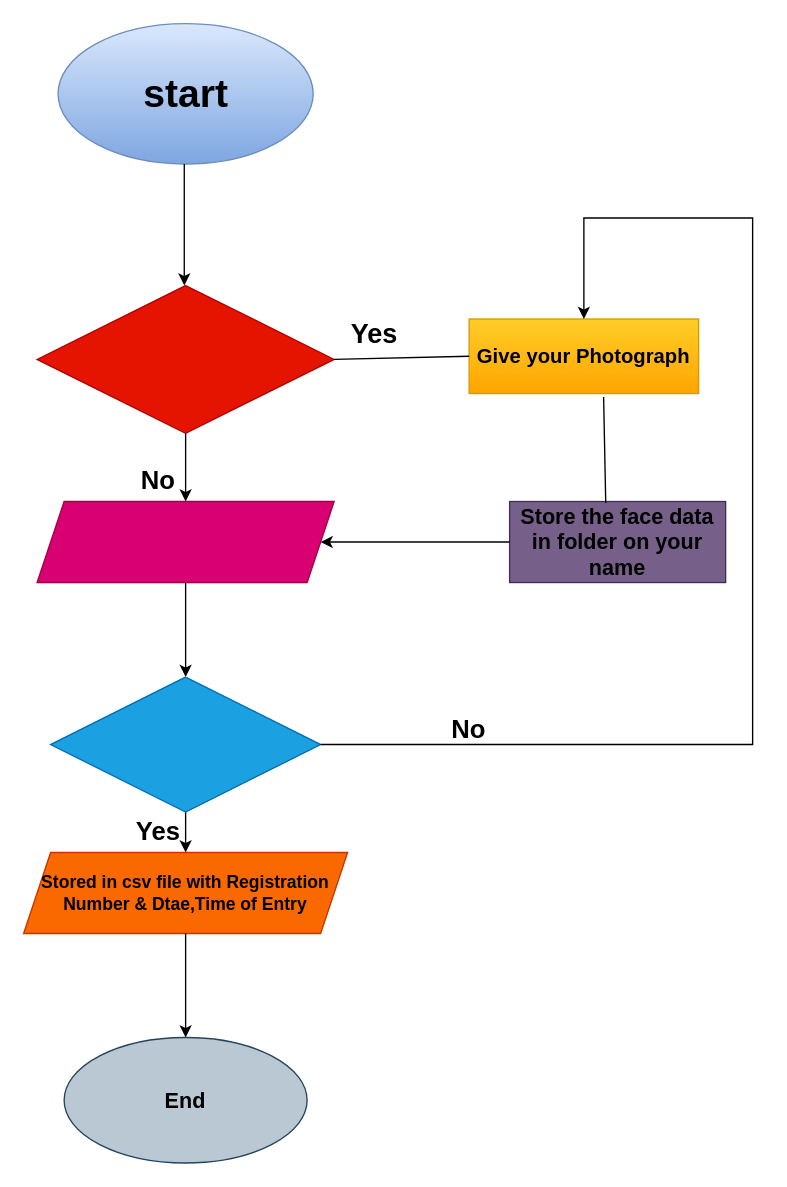
Image size: 787x1187. Some labels were removed from this diagram. Here are the shapes that lost their labels. From the top down, the centre of each, then its label:
pixel 185 358: New User? run create_dataset_py
pixel 185 541: Recognize the User run face_recognize_py
pixel 185 744: Face Recognized
